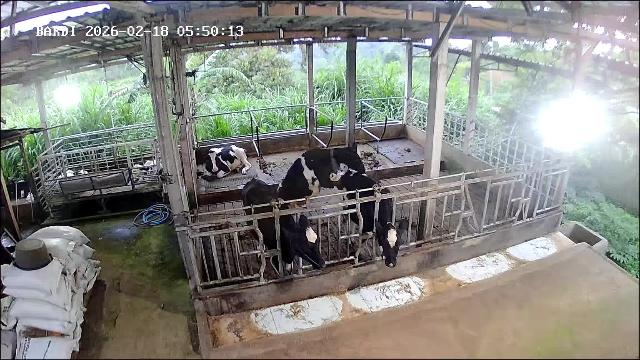mounting: (281, 144, 364, 214)
